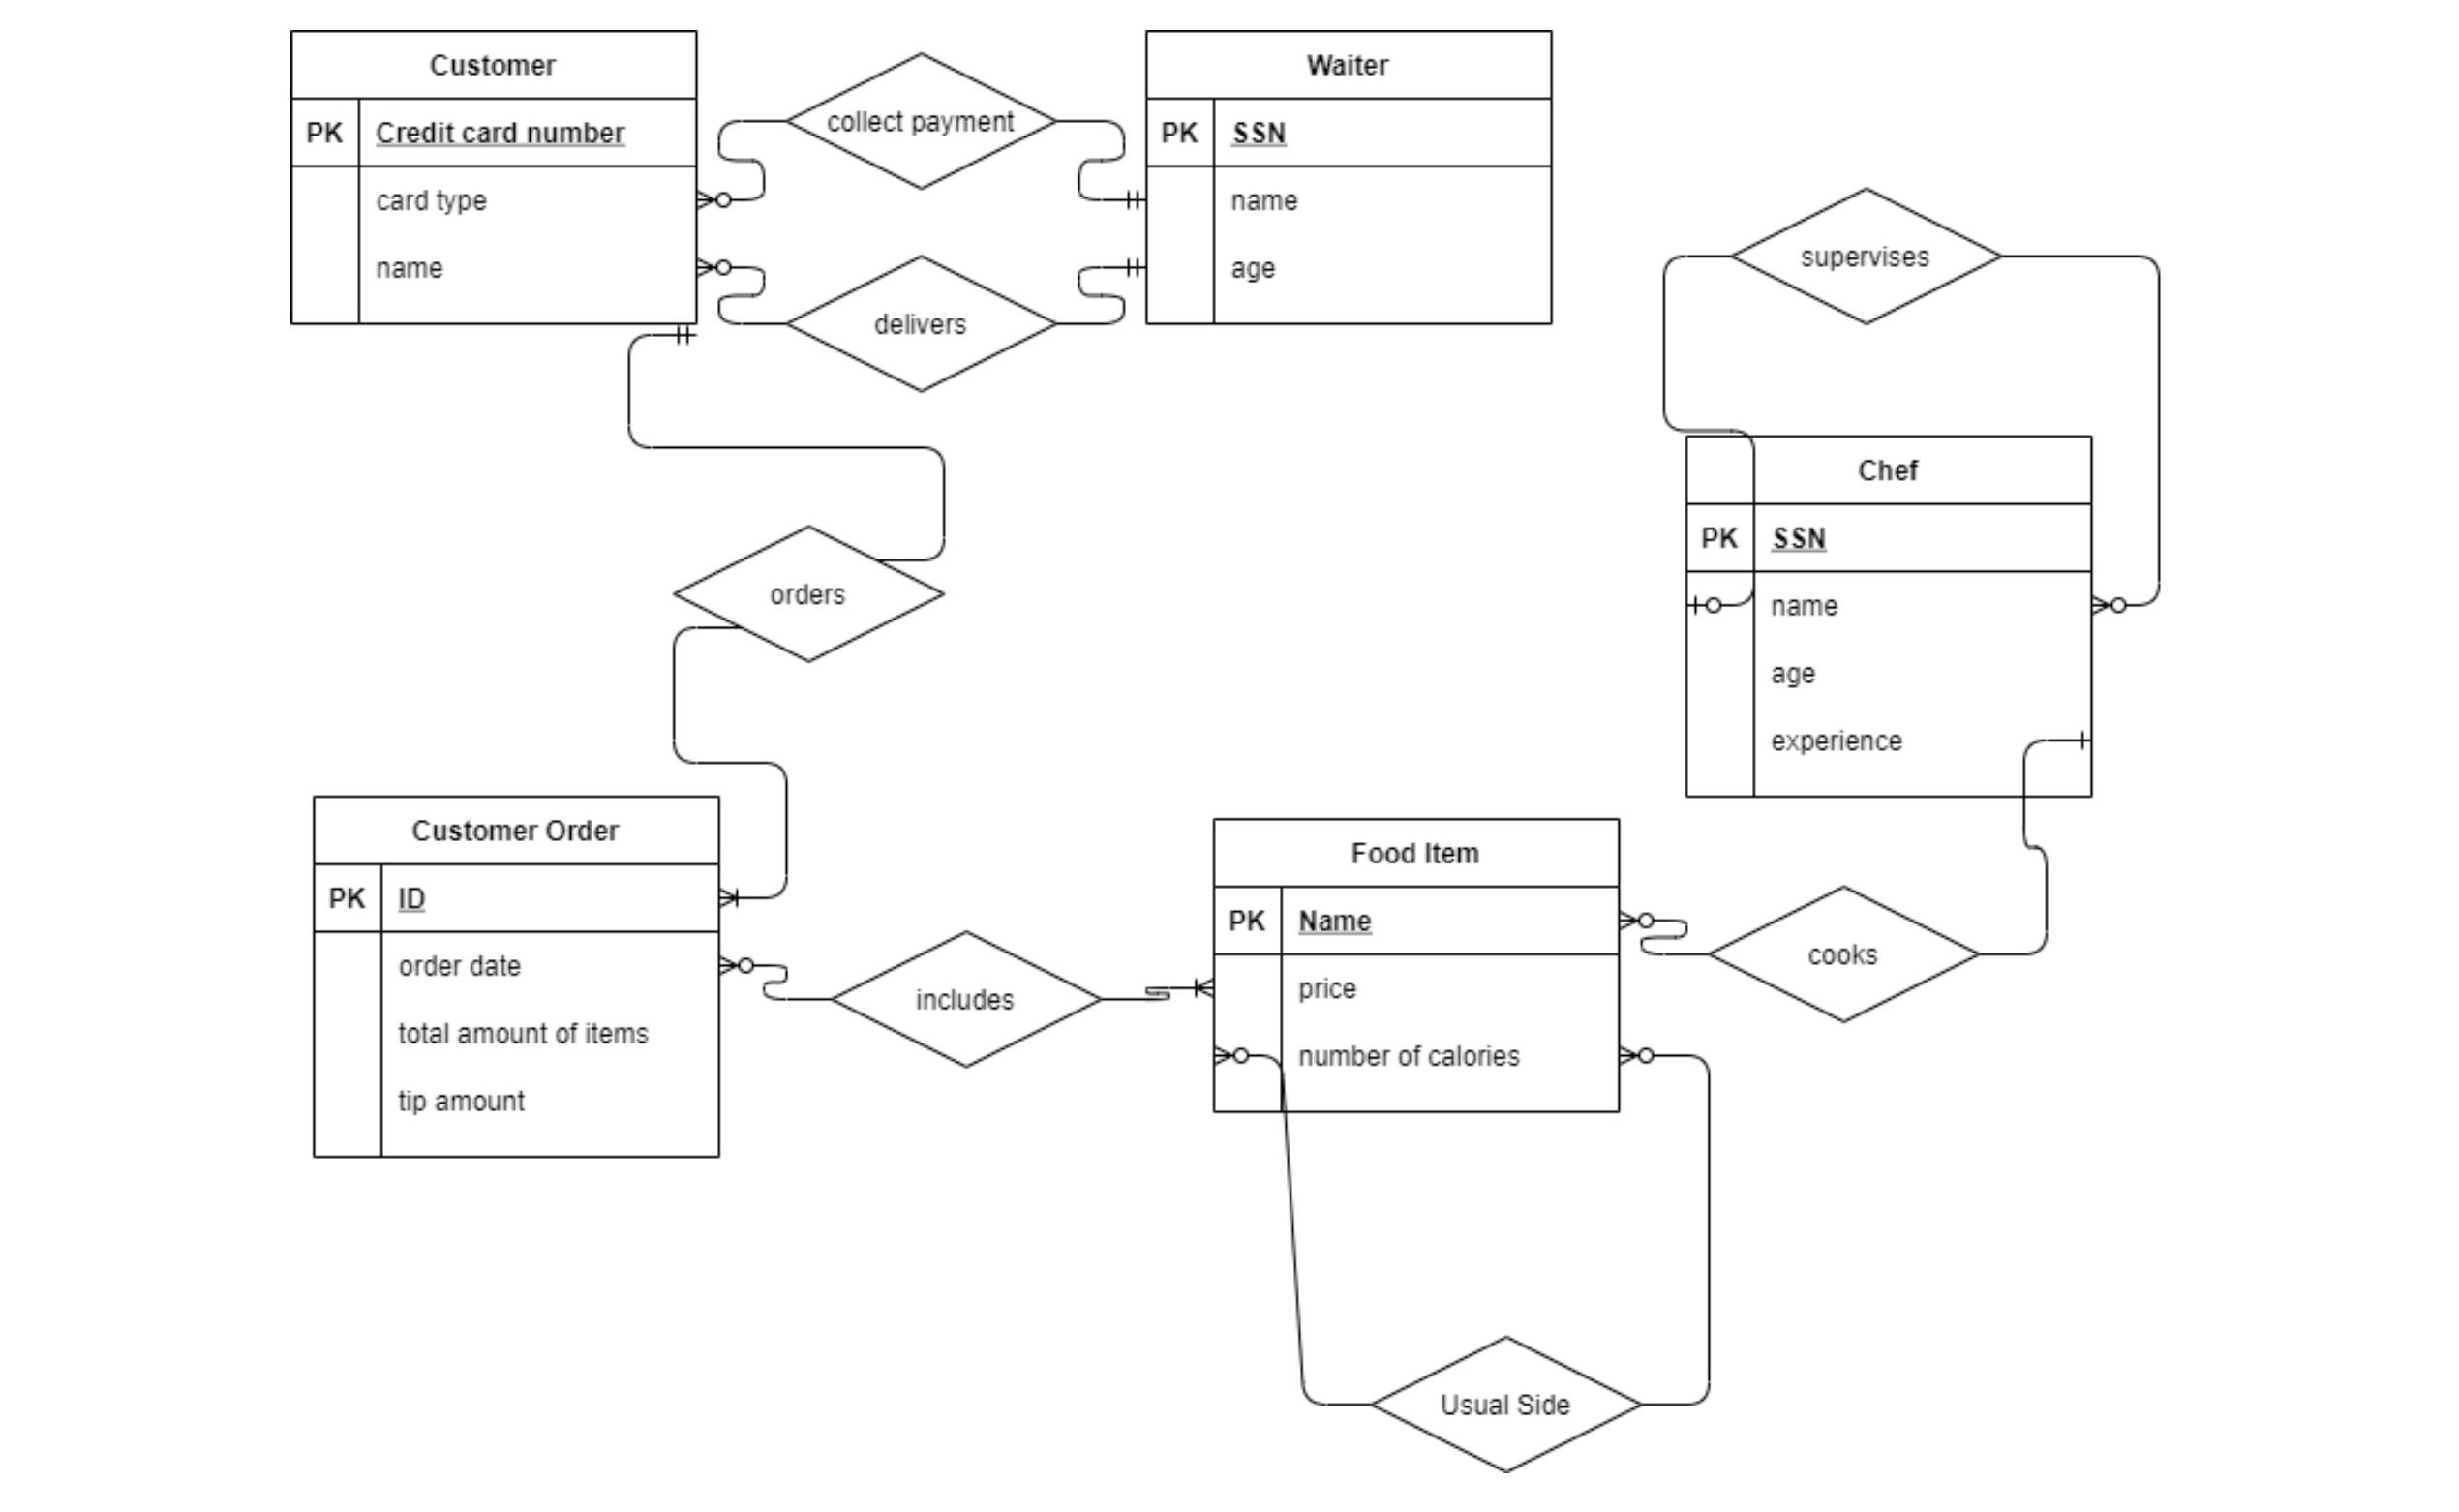Entity: (311, 792, 722, 1159), (1684, 434, 2094, 799), (288, 30, 701, 327), (1212, 817, 1623, 1113), (1143, 30, 1554, 325)
Relationship: (1370, 1335, 1642, 1477), (787, 49, 1057, 191), (1728, 186, 2001, 327), (831, 929, 1101, 1069), (673, 525, 947, 662), (785, 255, 1056, 392), (1711, 885, 1981, 1022)
